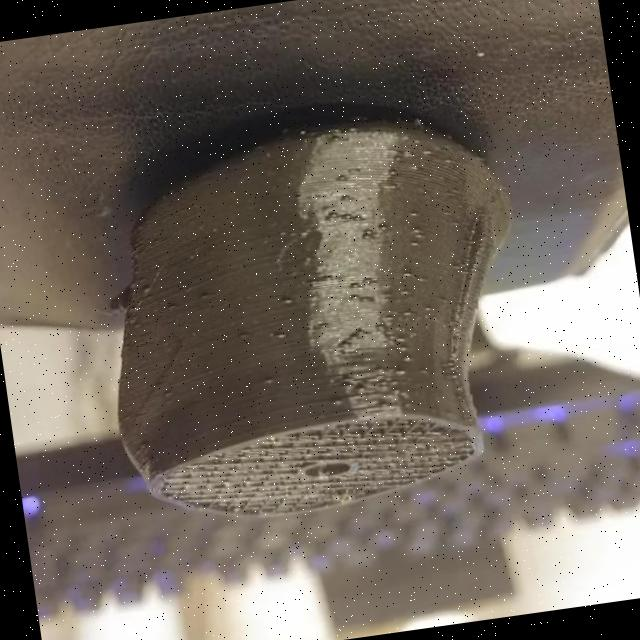blobs: (198, 288, 218, 306), (350, 326, 371, 342), (270, 329, 288, 347), (389, 363, 408, 380), (357, 227, 375, 244), (343, 278, 364, 292), (375, 218, 392, 234), (360, 292, 378, 307), (352, 380, 369, 395), (164, 300, 182, 314), (336, 171, 351, 187), (329, 394, 346, 408), (140, 284, 156, 298), (408, 238, 424, 252), (353, 213, 369, 227), (400, 268, 414, 284), (405, 207, 422, 220), (344, 292, 362, 304), (384, 166, 402, 178), (418, 148, 436, 160), (365, 276, 380, 290), (411, 226, 426, 240), (338, 338, 353, 352), (236, 329, 252, 342), (342, 192, 358, 204), (342, 212, 356, 225), (395, 343, 409, 356), (262, 376, 277, 388), (418, 304, 436, 314), (391, 154, 406, 166), (441, 155, 456, 167), (400, 287, 413, 300), (282, 294, 294, 308), (383, 312, 397, 324), (327, 210, 342, 220), (400, 310, 415, 320), (394, 334, 408, 344), (401, 352, 413, 363)
